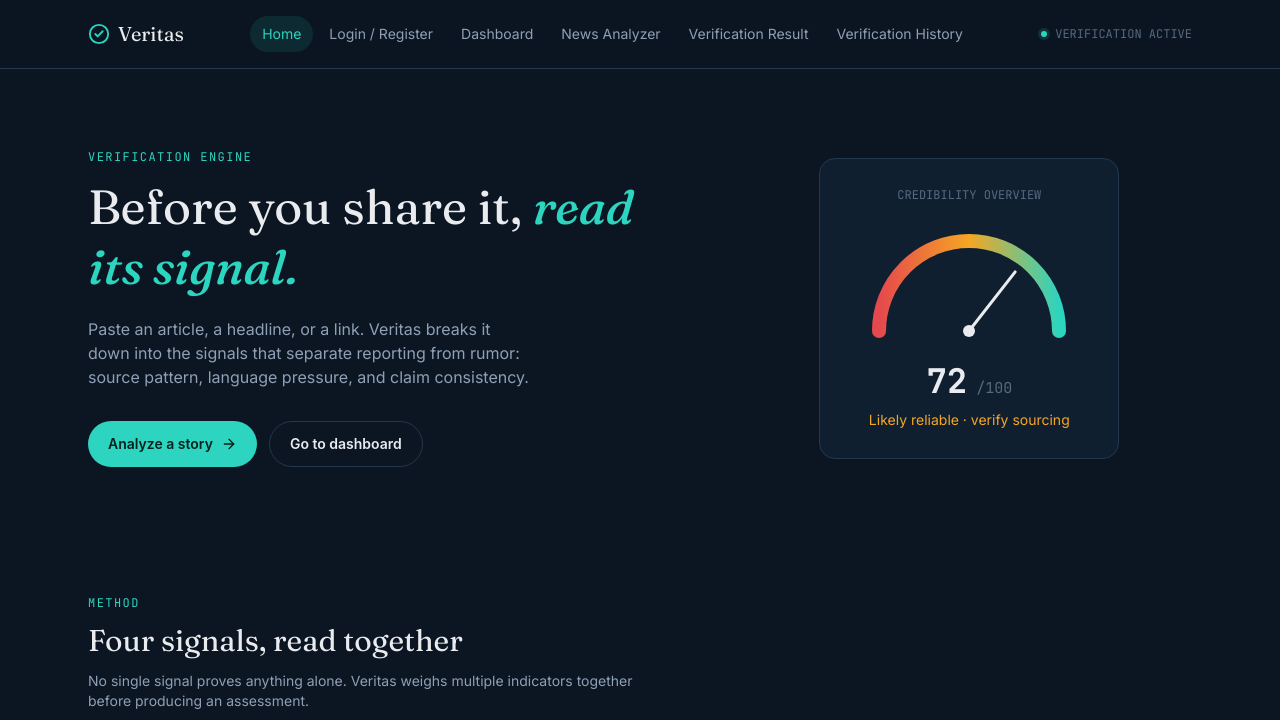
Test: Veritas app › shows empty state on the history page
Click the button "Verification History": {"x": 900, "y": 34} [824,16,975,52]
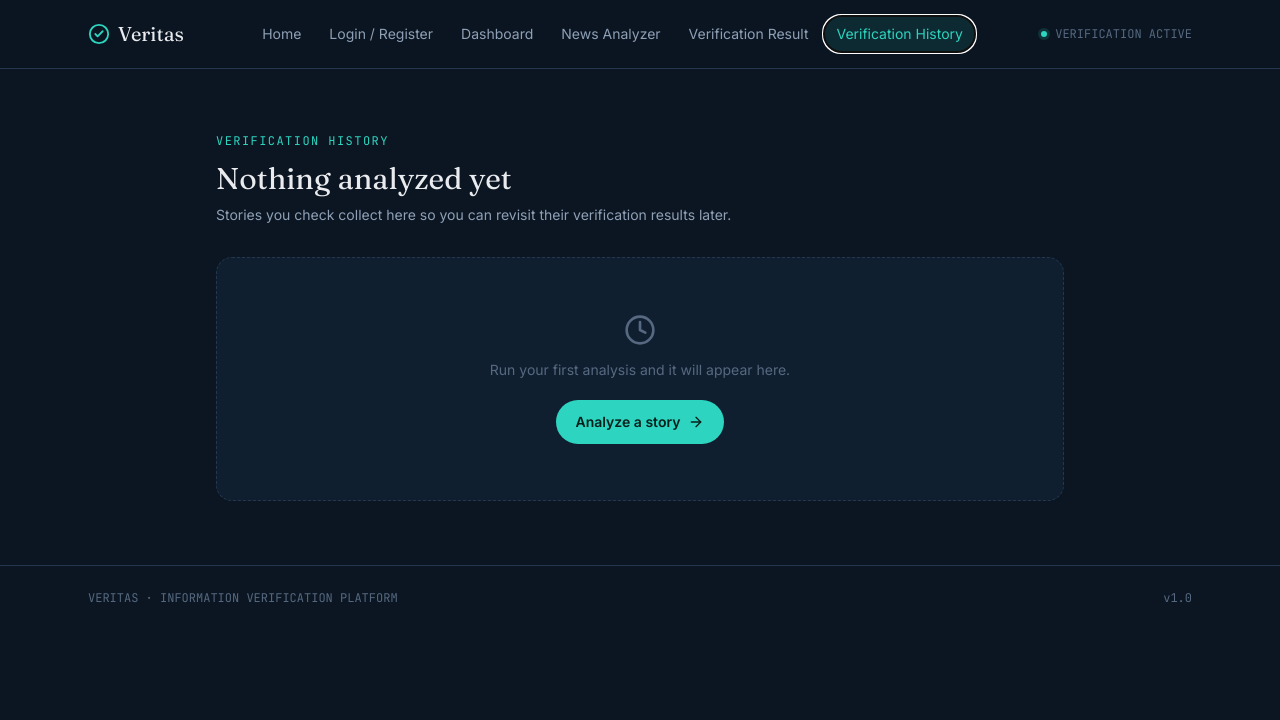
Result: the heading "Nothing analyzed yet" is shown at [216,160,512,197]
